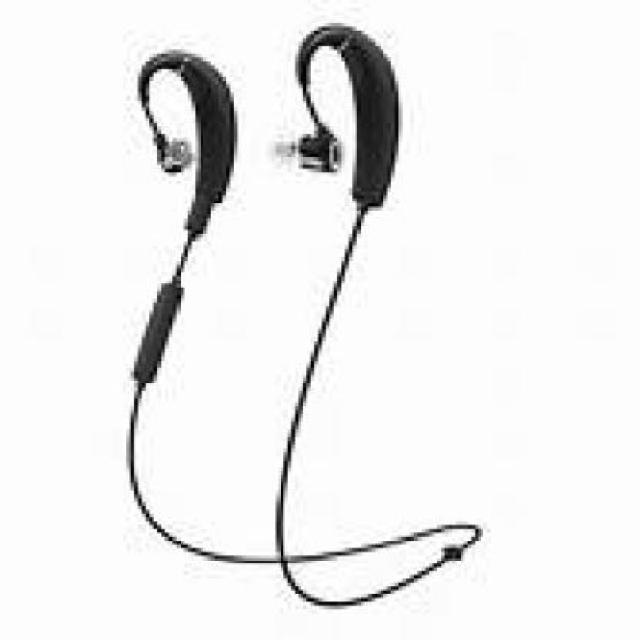earphone: (164, 19, 504, 603)
